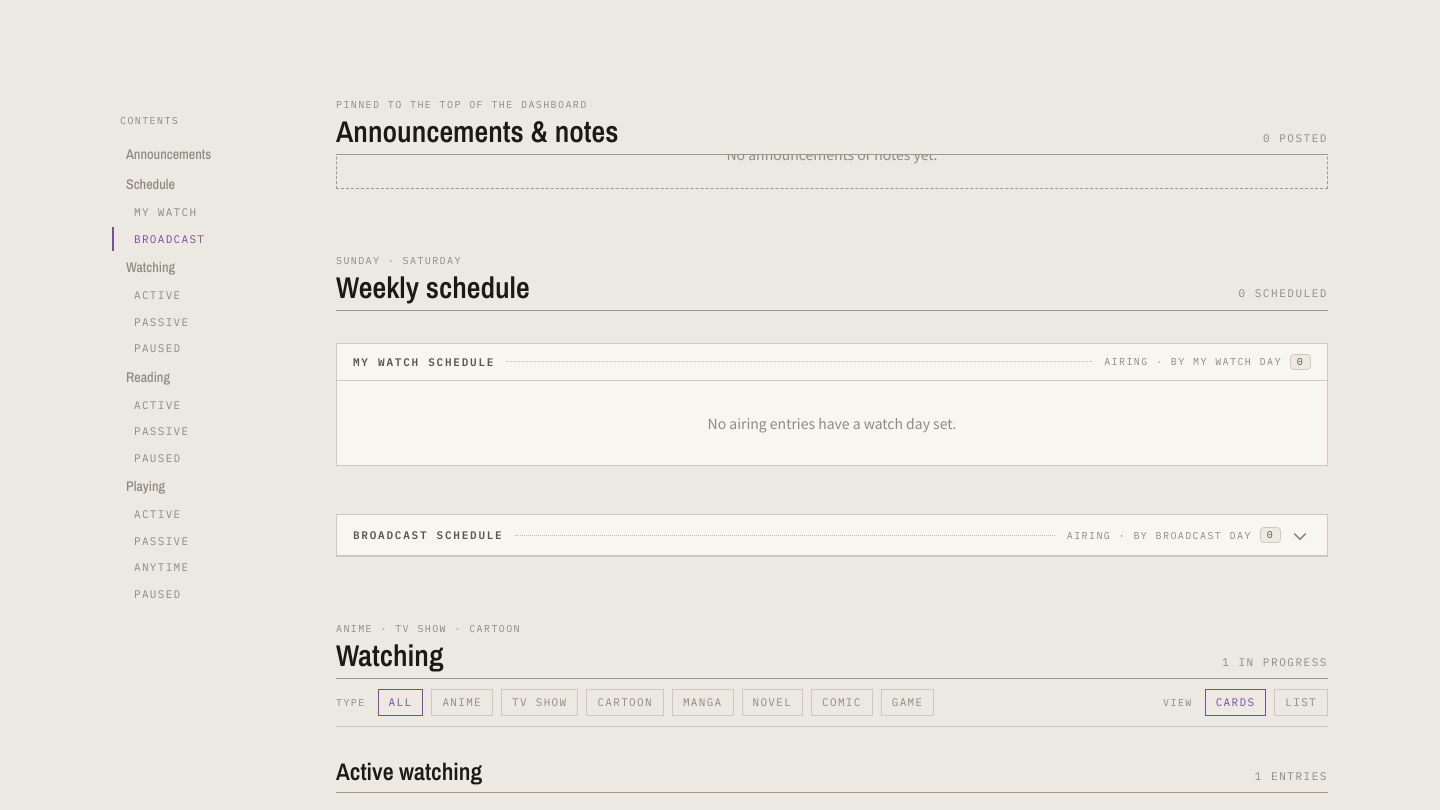
each row reports progress in its own media type's unit
Click the button "List". click: (1301, 702)
box: [1274,689,1328,716]
(page scrolled)
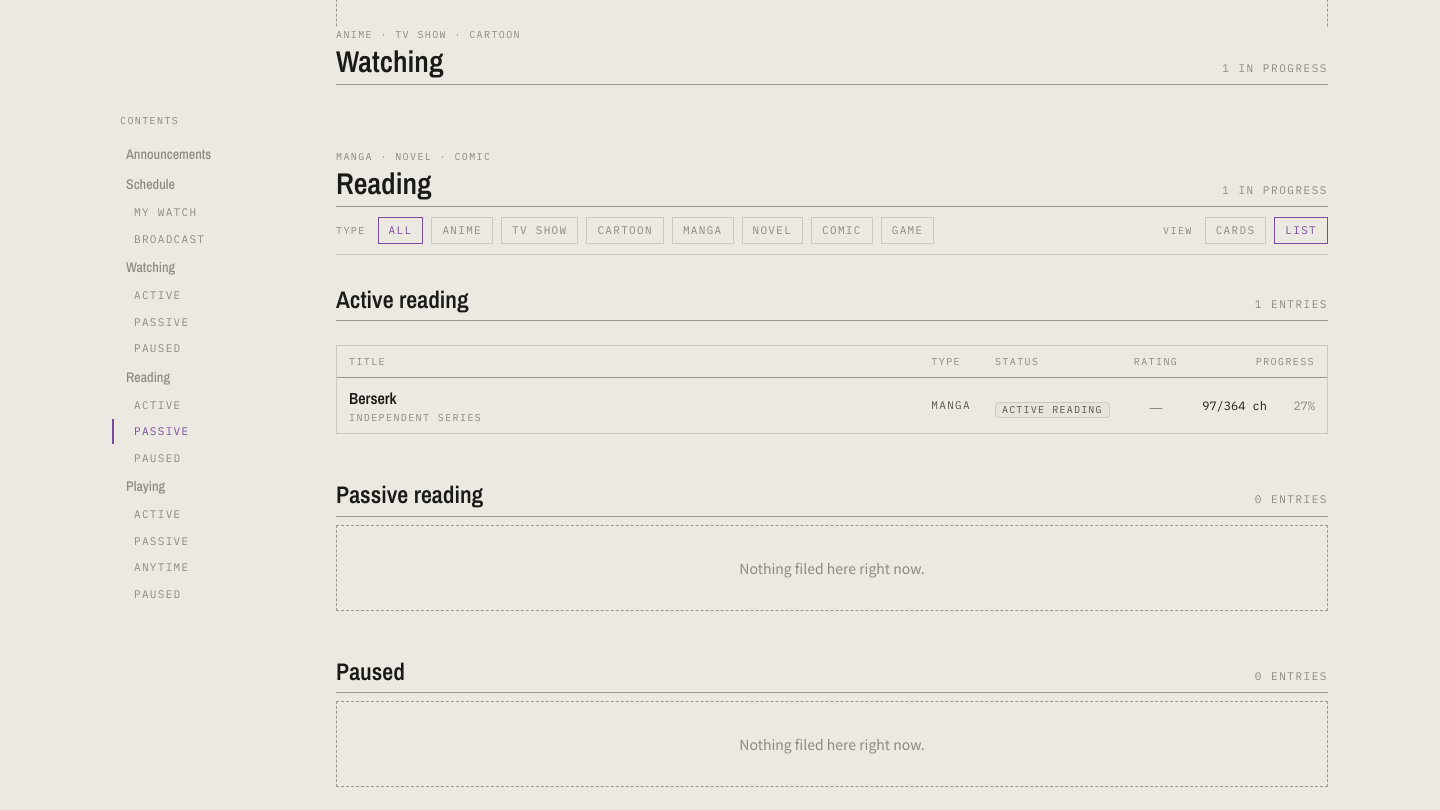
Expected: the text "97/364 ch" is shown, [1202,398,1267,412]
